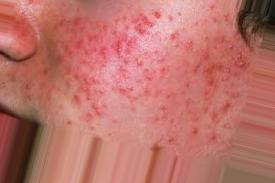Acne: (58, 25, 100, 133), (117, 74, 166, 130), (212, 33, 259, 87), (162, 28, 210, 70), (182, 94, 222, 137), (129, 13, 168, 57), (161, 61, 207, 95), (102, 32, 134, 73)
